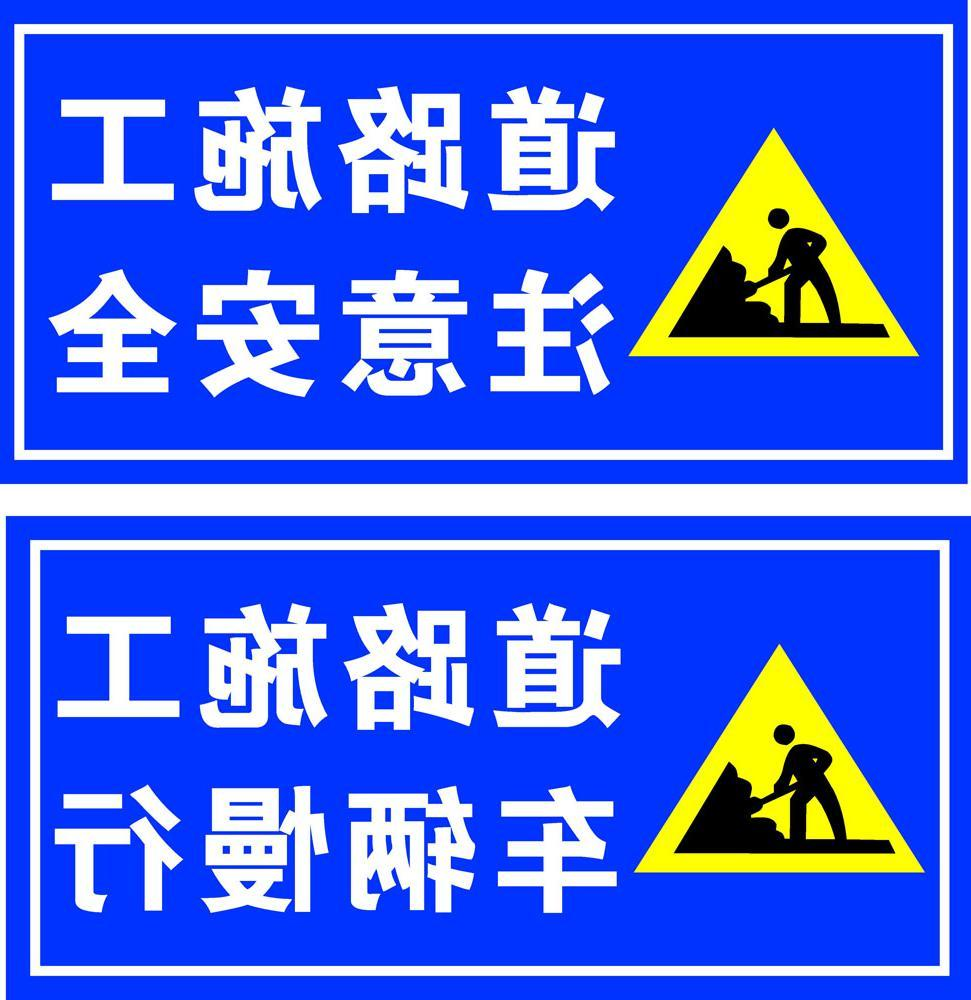sign: (7, 10, 961, 470), (25, 530, 958, 987)
